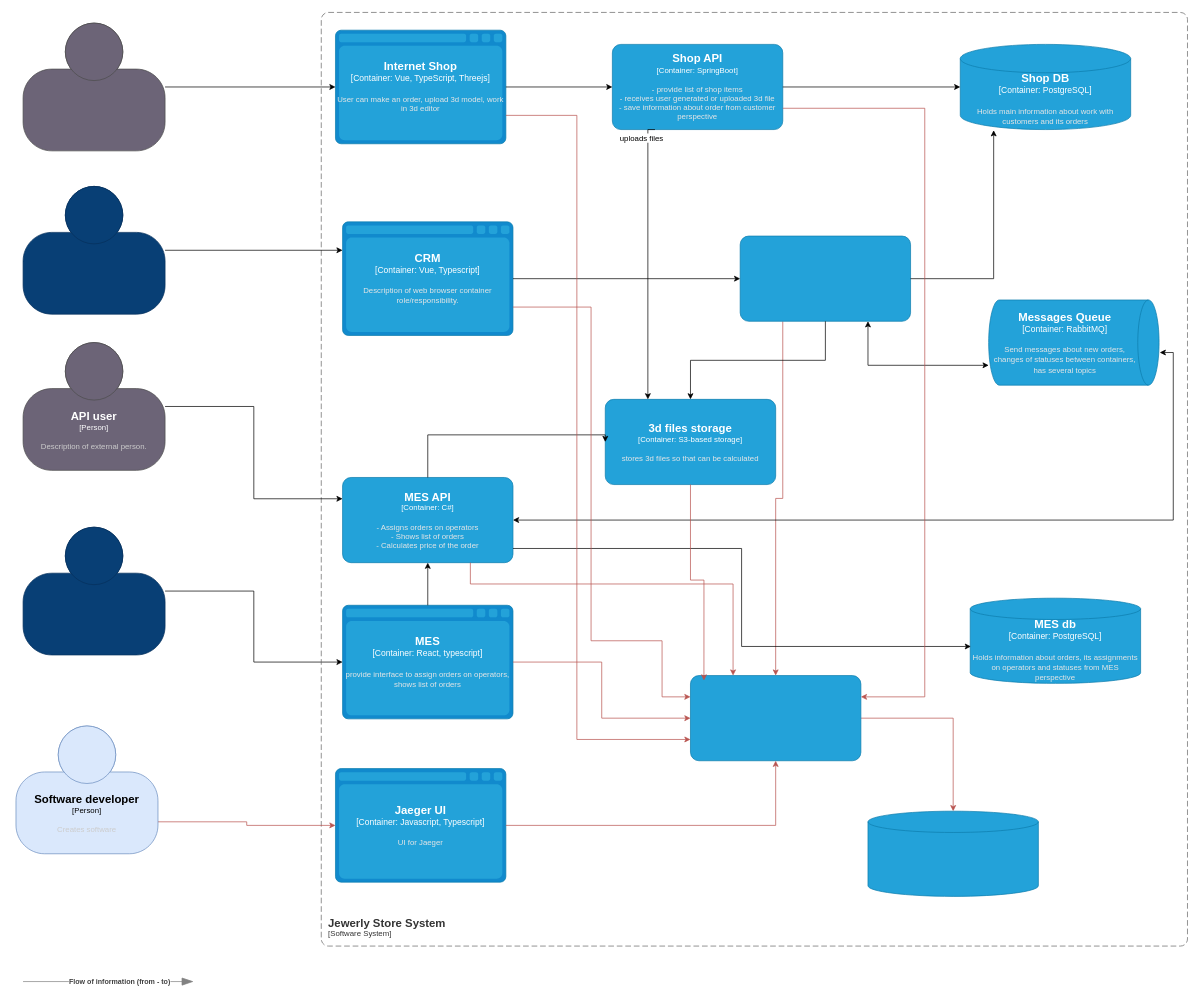
This 1200x1005 diagram has some shape labels left out. Here are the shapes that lost their labels. From the top down, the centre of each, then its label:
(93,86): Customer [Person] Description of external person.
(93,250): Seller [Person] Operates with order, confirms manufacturing for the user
(825,278): CRM API [Container: SpringBoot] Description of container role/responsibility.
(93,590): Operator [Person] Takes order in work, manufactures jewerly
(775,718): Jaeger [Container: tracing]
(952,853): Jaeger DB [Container: Cassandra] Holds information about tracing
